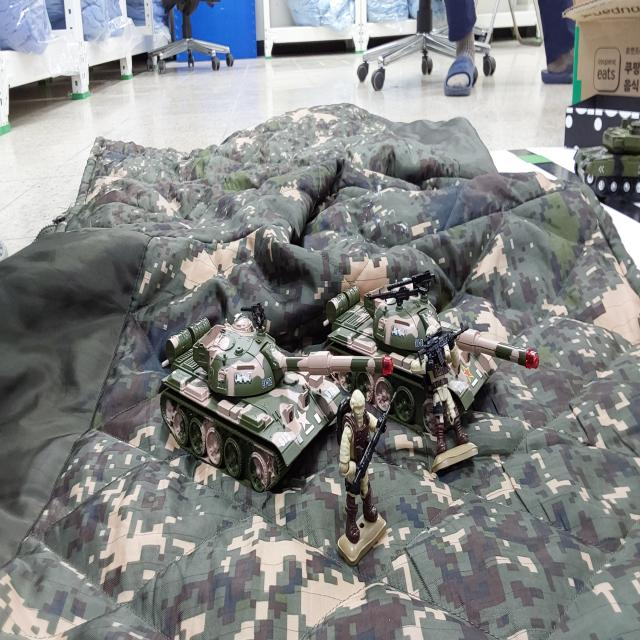ally: (418, 318, 478, 472), (337, 389, 387, 565)
